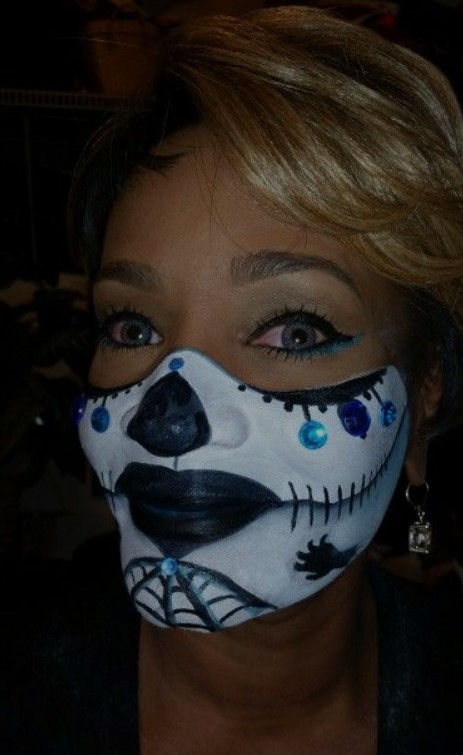face_with_mask: (64, 78, 451, 648)
